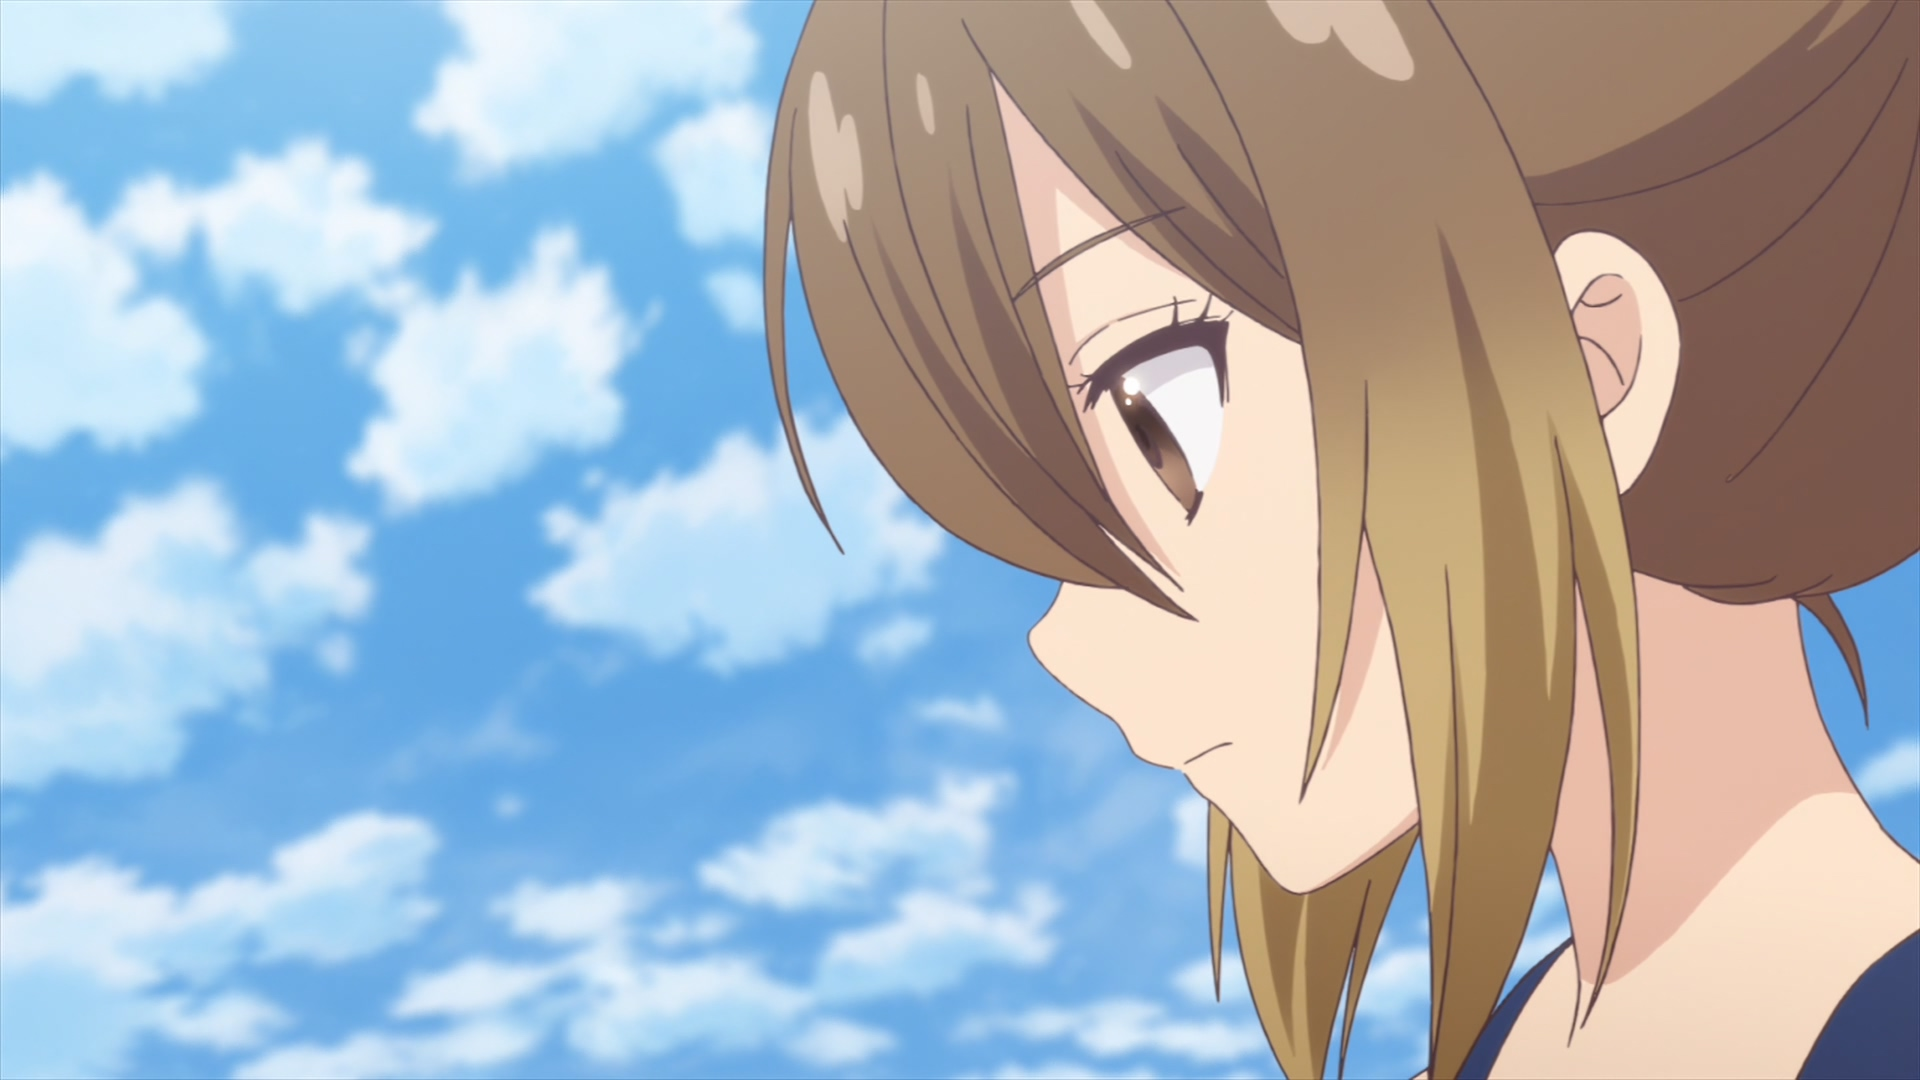其他: (764, 1, 1920, 1080)
